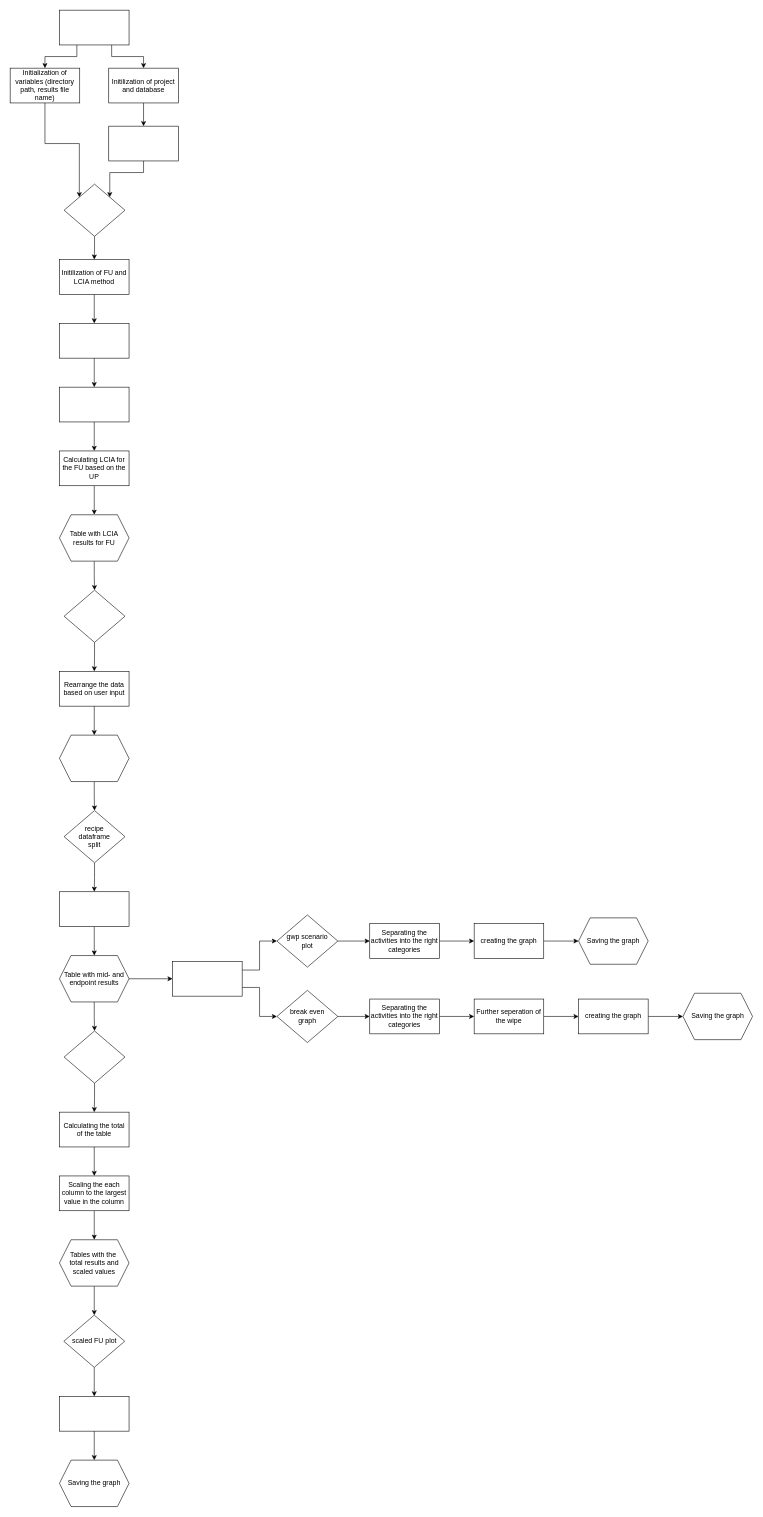
This 763x1517 diagram has some shape labels left out. Each missing label, with the centre of its shape:
"Calculating LCIA results for UP with a quantity of 1" belongs at (x=94, y=404).
"Choosing flows" belongs at (x=143, y=143).
"dataframe element scaling" belongs at (x=94, y=1056).
"Extracting the GWP column" belongs at (x=207, y=978).
"Extracting unique process' (UP)" belongs at (x=94, y=340).
"Importing libraries and self-made libraries (SML)" belongs at (x=94, y=27).
"plotting each activity for each LCIA category" belongs at (x=94, y=1413).
"quick LCIA" belongs at (x=94, y=210).
"Rearrange data" belongs at (x=94, y=616).
"Seperating mid- and endpoint" belongs at (x=94, y=909).
"Table with rearranged results" belongs at (x=94, y=758).
